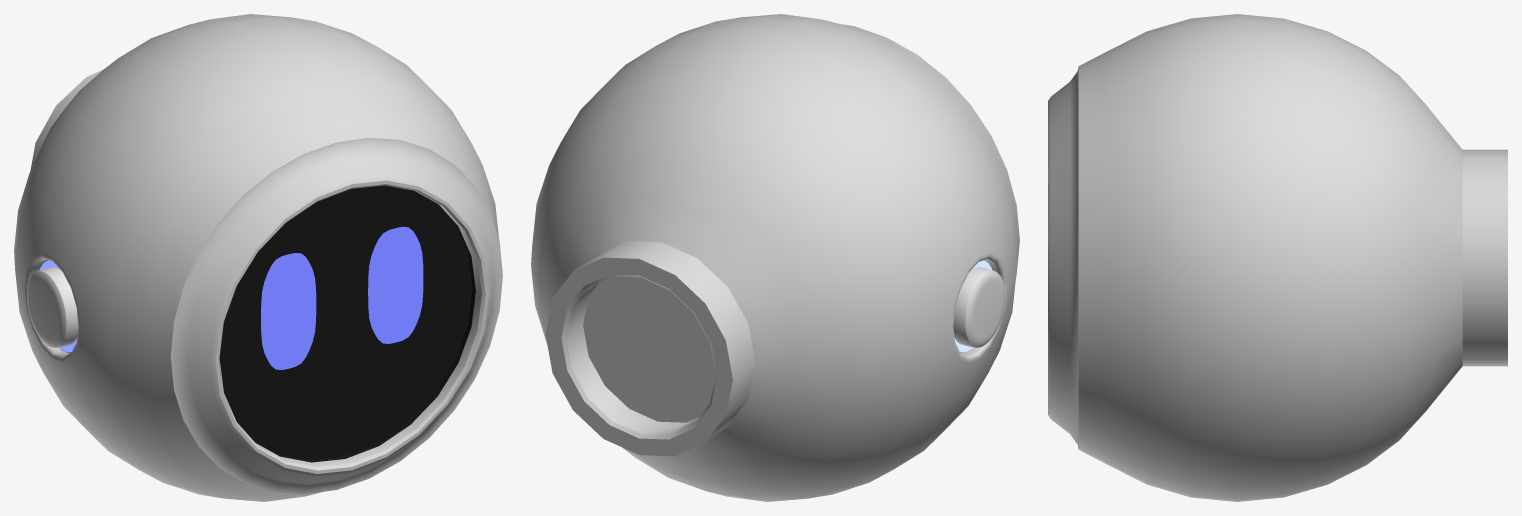
Rendered from robot.glb.
3 views of the same model, side by side, from view 1: azimuth 30°, elevation 25°; view 2: azimuth 150°, elevation 25°; view 3: azimuth 270°, elevation 25° (orthographic).
Visible parts, largest first — view 1: Body.001, Eyes.001, Earpiece; view 2: Body.001, Earpiece; view 3: Body.001.
Part boxes in pixels (<box>): Body.001: <box>14,14,502,501</box>; Eyes.001: <box>261,226,423,369</box>; Earpiece: <box>27,267,78,347</box>; Body.001: <box>531,14,1019,501</box>; Earpiece: <box>953,267,1004,347</box>; Body.001: <box>1048,14,1507,501</box>.
Bounding box in the file's own units: 1.72 × 1.71 × 1.61.
